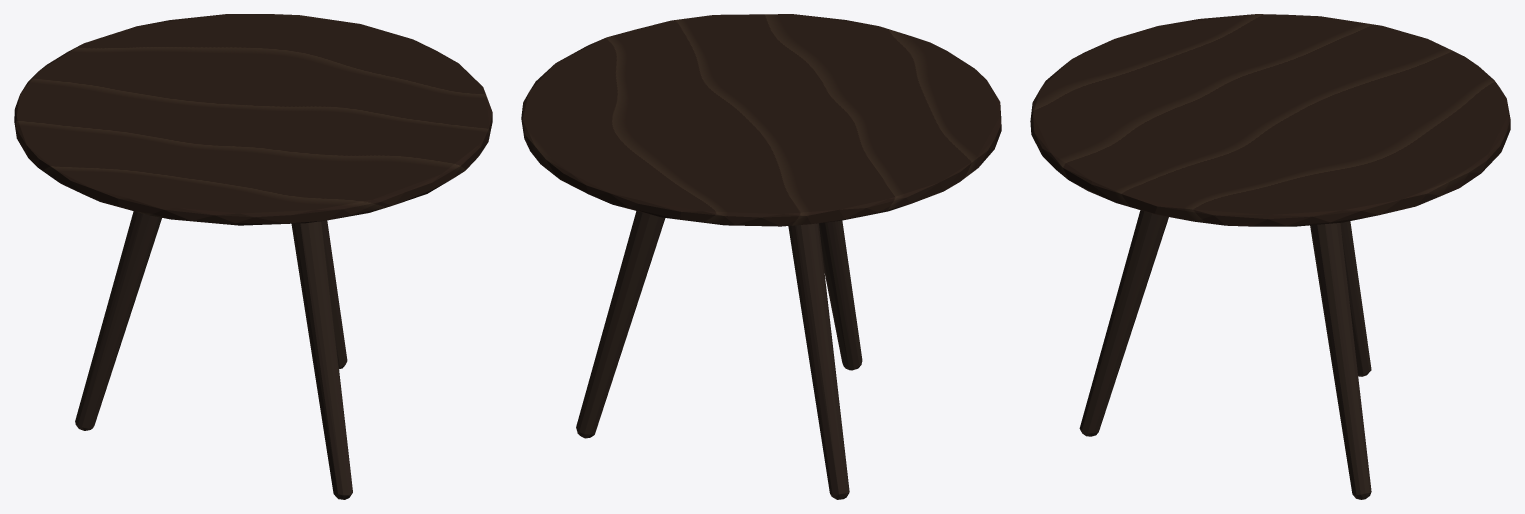
Rendered from side_table.fbx.
3 renders of one model, left to right at view 1: azimuth 30°, elevation 25°; view 2: azimuth 150°, elevation 25°; view 3: azimuth 270°, elevation 25°, orthographic.
Parts seen in each view (by area): view 1: table_baked; view 2: table_baked; view 3: table_baked.
Boxes of the visible parts, <box> form: table_baked: <box>14,14,492,499</box>; table_baked: <box>521,14,1001,499</box>; table_baked: <box>1030,14,1510,499</box>.
Bounding box in the file's own units: 69.96 × 51.7 × 70.
Materials: 1 (1 with a texture image).
